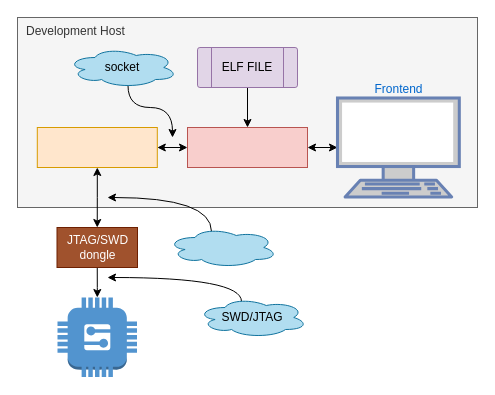
This 495x395 diagram has some shape labels left out. The shapes that lost their labels are listed below. From the top down, each one's box as (x1, y1, x2, y2) in pixels, then its label:
(36, 126, 157, 168): openocd
(186, 126, 308, 168): (arm-none-eabi-)gdb
(166, 226, 278, 268): usb
